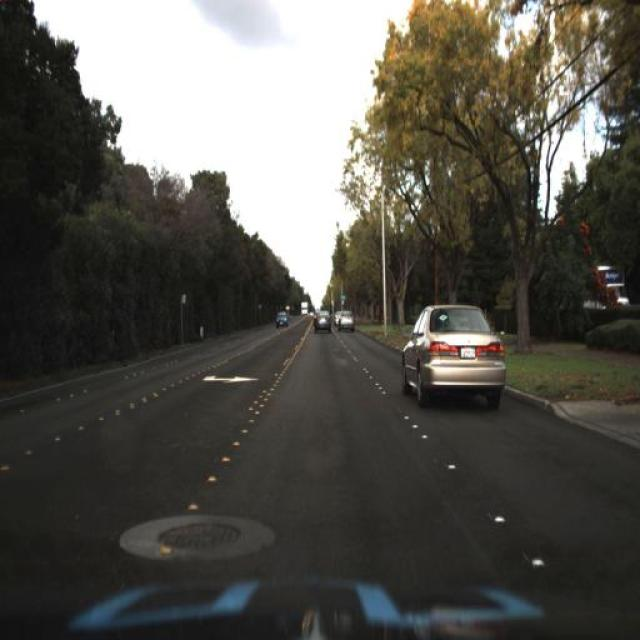car: (395, 289, 510, 409), (333, 302, 361, 342), (306, 302, 336, 338), (337, 310, 357, 332), (271, 308, 290, 331), (332, 309, 342, 332)
